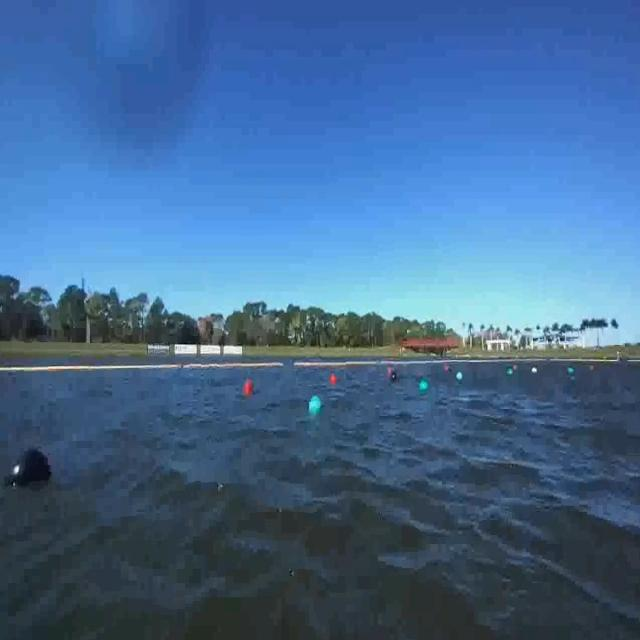black-buoy: (6, 419, 62, 506)
green-buoy: (307, 398, 321, 417), (568, 366, 575, 374)
red-buoy: (242, 378, 252, 396), (329, 376, 337, 385)
